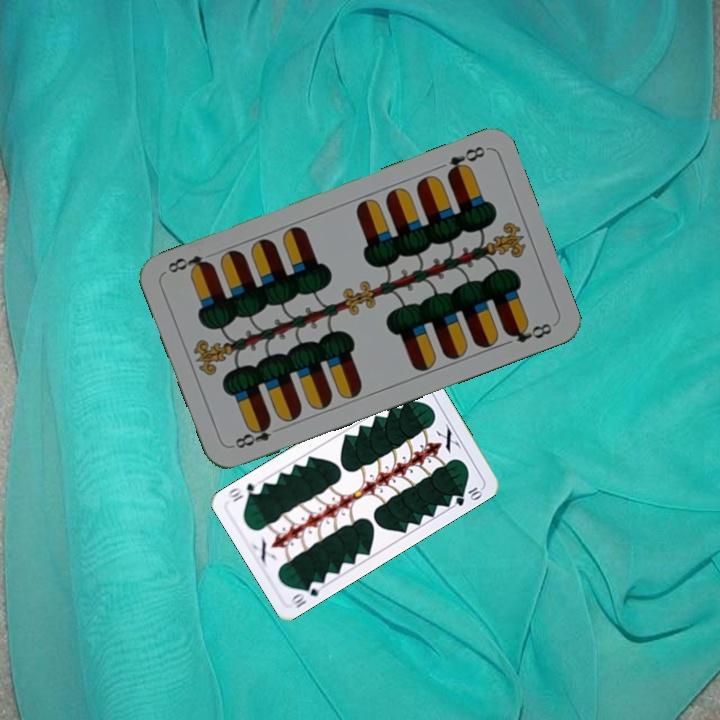E8: (442, 142, 488, 180), (228, 417, 274, 451)
G10: (288, 577, 326, 611)
